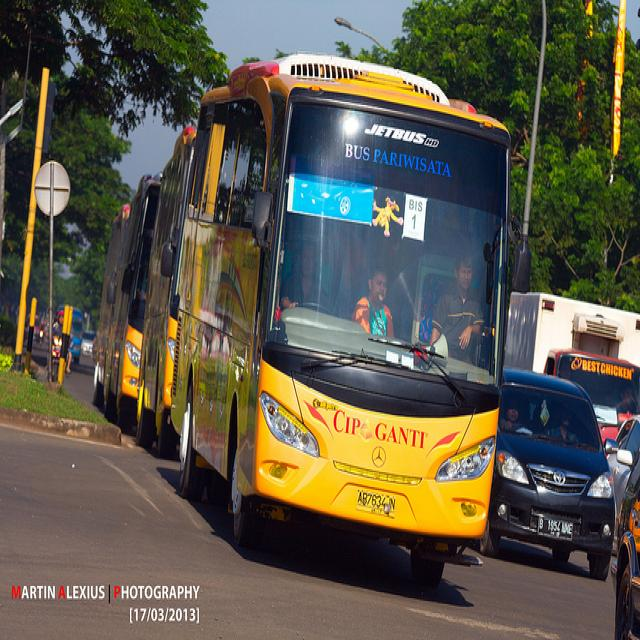Vehicle: (172, 55, 510, 594), (478, 366, 617, 580), (505, 292, 640, 446), (137, 131, 198, 452), (101, 176, 163, 432), (605, 410, 640, 574), (613, 447, 640, 632), (69, 307, 84, 364), (81, 331, 98, 358)
